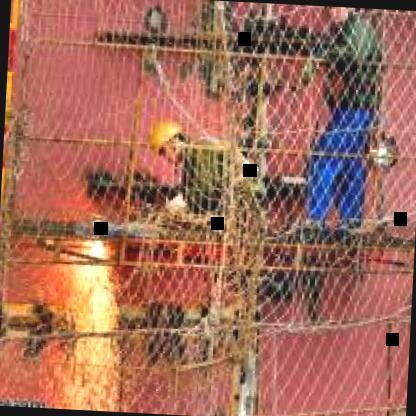helmet: (148, 115, 189, 167), (321, 5, 362, 22)
